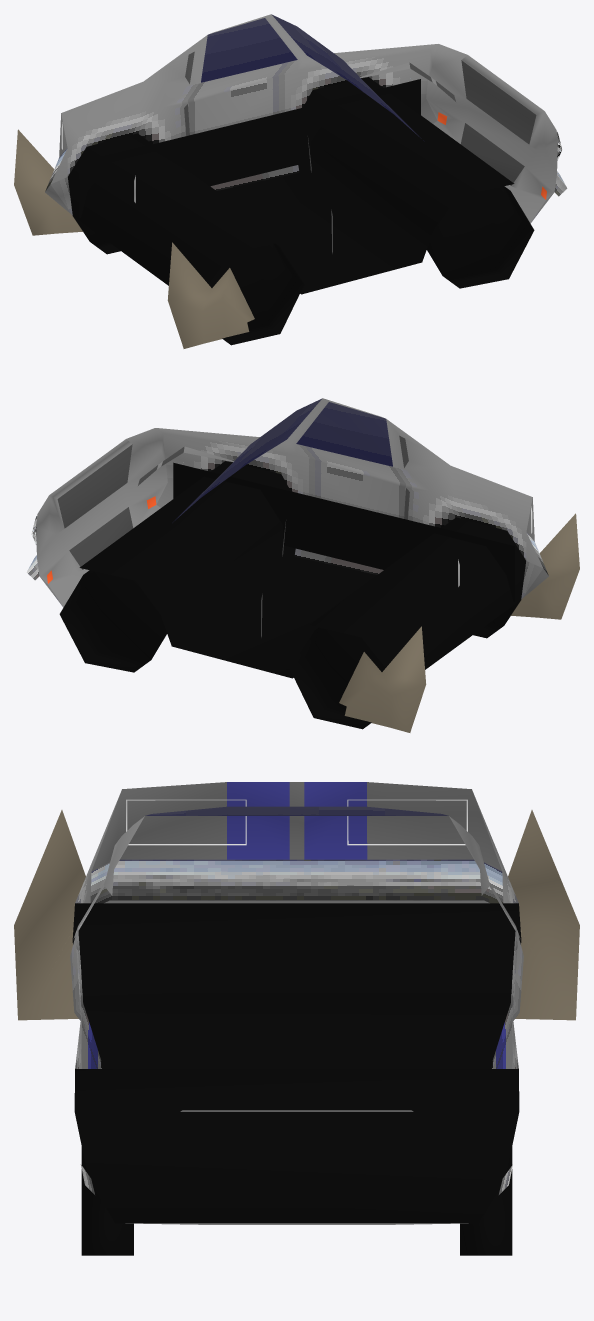
File: ps2_save-icons_runabout3neoage-jp.glb
3 views of the same model, one above another, from view 1: azimuth 30°, elevation 25°; view 2: azimuth 150°, elevation 25°; view 3: azimuth 270°, elevation 25° (orthographic). The views are drawn at different scales.
Parts seen in each view (by area): view 1: RUN3SYSN.ICN; view 2: RUN3SYSN.ICN; view 3: RUN3SYSN.ICN.
Boxes of the visible parts, <box> form: RUN3SYSN.ICN: <box>14,14,567,348</box>; RUN3SYSN.ICN: <box>26,398,579,732</box>; RUN3SYSN.ICN: <box>14,782,579,1255</box>.
Size of the model in its own units: 4.72 by 2.32 by 3.67.
1 material, 1 textured.
